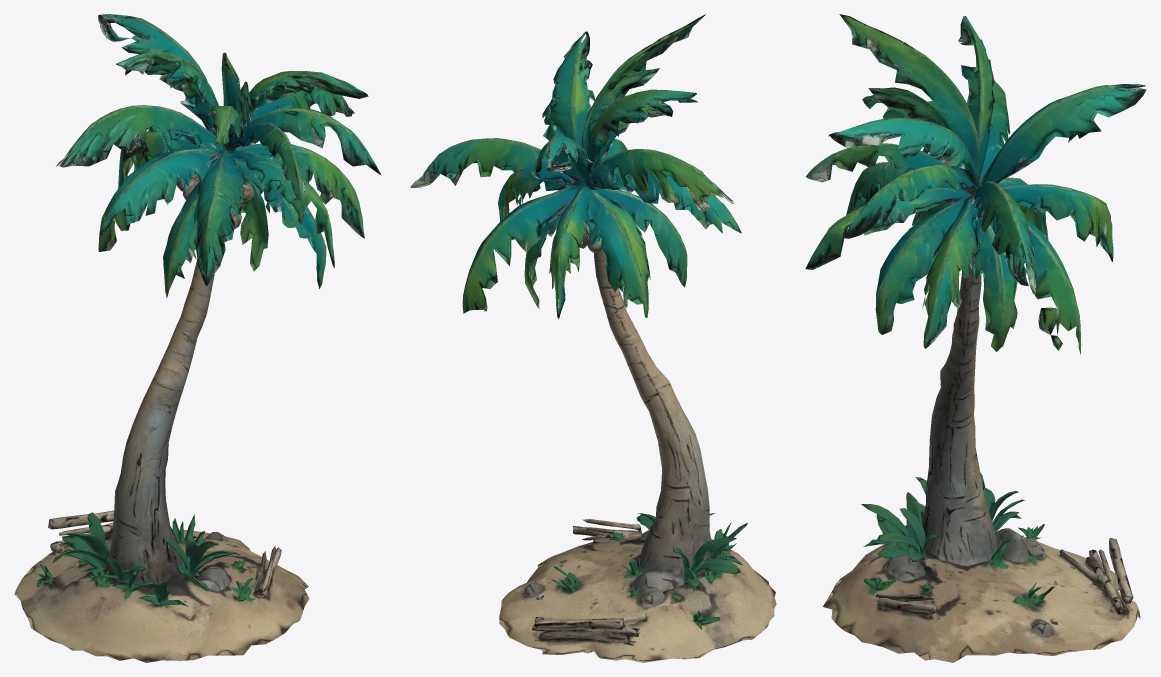
The model's file is sw-palm-a.glb.
3 renders of one model, left to right at view 1: azimuth 30°, elevation 25°; view 2: azimuth 150°, elevation 25°; view 3: azimuth 270°, elevation 25°, orthographic. The views are drawn at different scales.
Parts seen in each view (by area): view 1: geometry_0; view 2: geometry_0; view 3: geometry_0.
Boxes of the visible parts, x1,y1,x2,y2 form: geometry_0: (14,14,381,662); geometry_0: (410,14,776,662); geometry_0: (805,14,1146,662).
Bounding box in the file's own units: 0.5577 × 0.9021 × 0.4702.
1 material, 1 textured.
